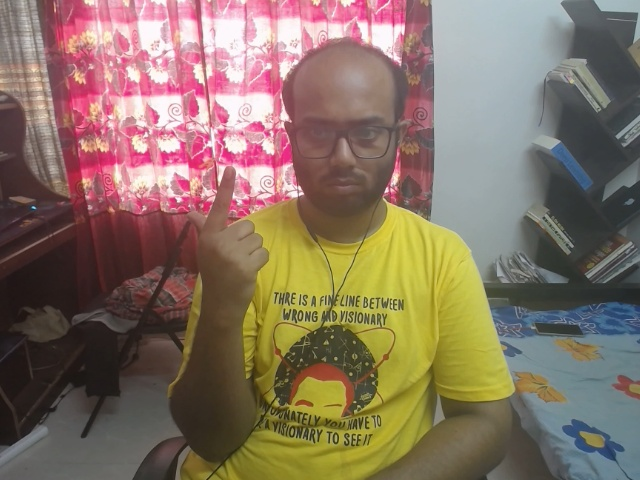seven: (163, 152, 280, 349)
